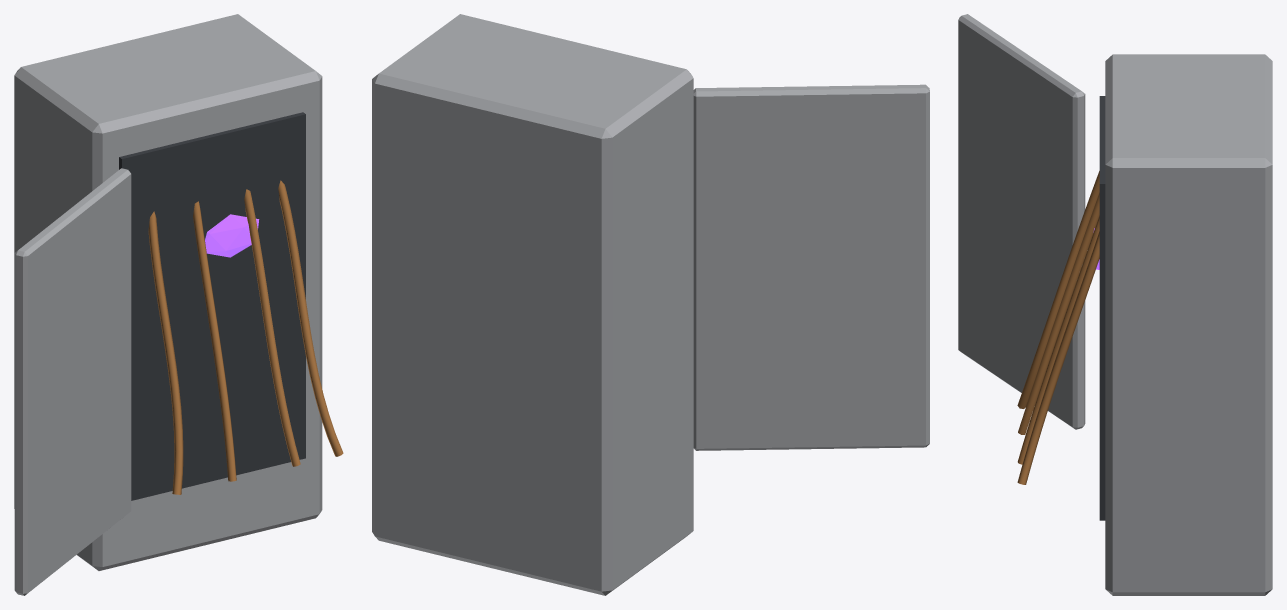
Rendered from TC_PROP_StrippedMachine_V1.gltf.
3 views of the same model, side by side, from view 1: azimuth 30°, elevation 25°; view 2: azimuth 150°, elevation 25°; view 3: azimuth 270°, elevation 25° (orthographic). The views are drawn at different scales.
Visible parts, largest first — view 1: TC_Machine_Body, TC_Machine_Hollow, TC_Machine_Door, TC_Machine_Wire_0, TC_Machine_Wire_3, TC_Machine_Wire_2, TC_Machine_Wire_1, TC_Machine_Resin; view 2: TC_Machine_Body, TC_Machine_Door; view 3: TC_Machine_Body, TC_Machine_Door, TC_Machine_Hollow, TC_Machine_Wire_3, TC_Machine_Wire_1, TC_Machine_Wire_0, TC_Machine_Wire_2.
Boxes of the visible parts, x1,y1,x2,y2 form: TC_Machine_Body: (14,14,322,570); TC_Machine_Hollow: (119,112,305,500); TC_Machine_Door: (14,168,131,595); TC_Machine_Wire_0: (148,211,183,494); TC_Machine_Wire_3: (278,180,343,456); TC_Machine_Wire_2: (244,189,300,466); TC_Machine_Wire_1: (193,201,236,481); TC_Machine_Resin: (205,214,259,257); TC_Machine_Body: (372,14,693,595); TC_Machine_Door: (693,84,929,450); TC_Machine_Body: (1105,54,1272,595); TC_Machine_Door: (958,14,1085,429); TC_Machine_Hollow: (1099,96,1105,520); TC_Machine_Wire_3: (1017,231,1099,484); TC_Machine_Wire_1: (1018,193,1099,434); TC_Machine_Wire_0: (1017,171,1099,408); TC_Machine_Wire_2: (1017,215,1099,464).
Bounding box in the file's own units: 1.16 × 1.3 × 0.8456.
